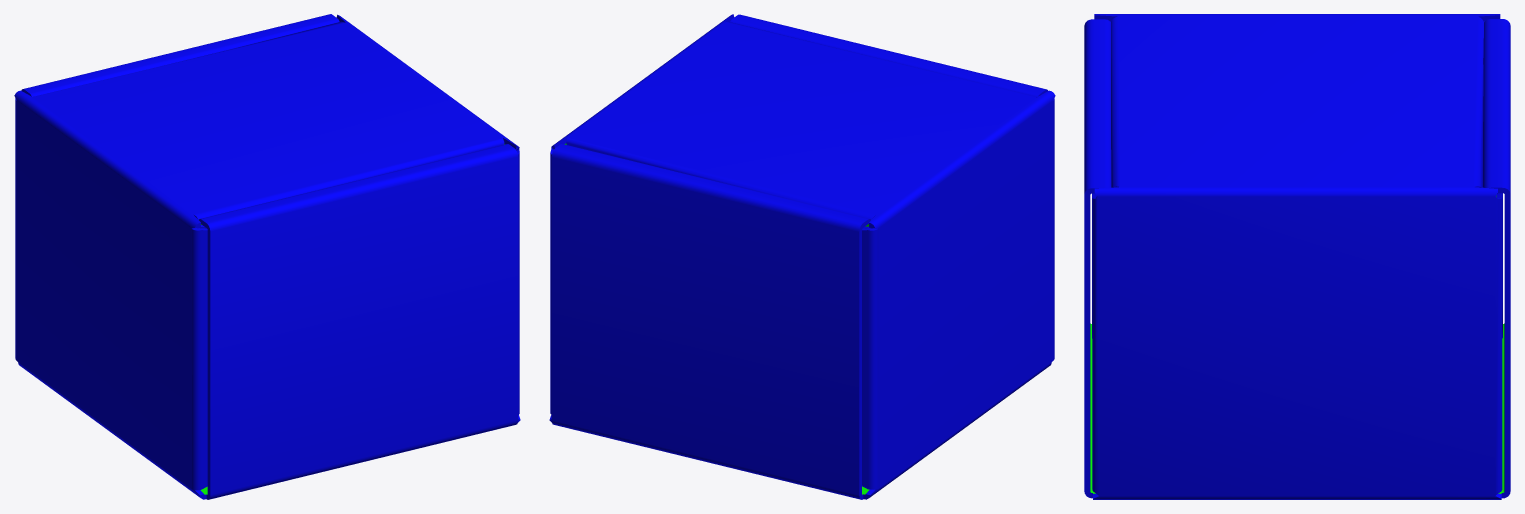
Rendered from ring_box_size01.glb.
3 renders of one model, left to right at view 1: azimuth 30°, elevation 25°; view 2: azimuth 150°, elevation 25°; view 3: azimuth 270°, elevation 25°, orthographic. The views are drawn at different scales.
Parts seen in each view (by area): view 1: CubeStable; view 2: CubeStable; view 3: CubeStable.
Part boxes in pixels (x1,y1,x2,y2): CubeStable: (14, 14, 520, 499); CubeStable: (549, 14, 1055, 499); CubeStable: (1084, 14, 1510, 499).
Bounding box in the file's own units: 5.67 × 4.6 × 5.71.
